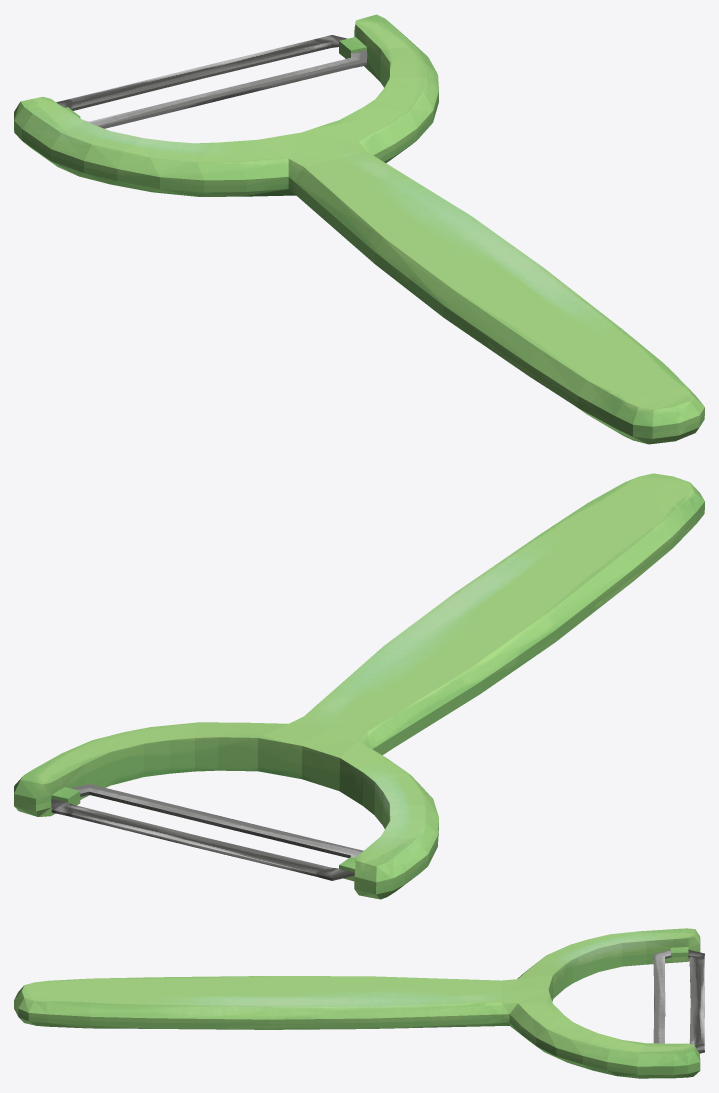
File: peeler.fbx
3 renders of one model, top to bottom at view 1: azimuth 30°, elevation 25°; view 2: azimuth 150°, elevation 25°; view 3: azimuth 270°, elevation 25°, orthographic. The views are drawn at different scales.
Parts seen in each view (by area): view 1: Peeler; view 2: Peeler; view 3: Peeler.
Boxes of the visible parts, x1,y1,x2,y2 form: Peeler: (14,14,704,444); Peeler: (14,473,704,899); Peeler: (14,928,704,1078).
Bounding box in the file's own units: 57.84 × 5.42 × 128.
